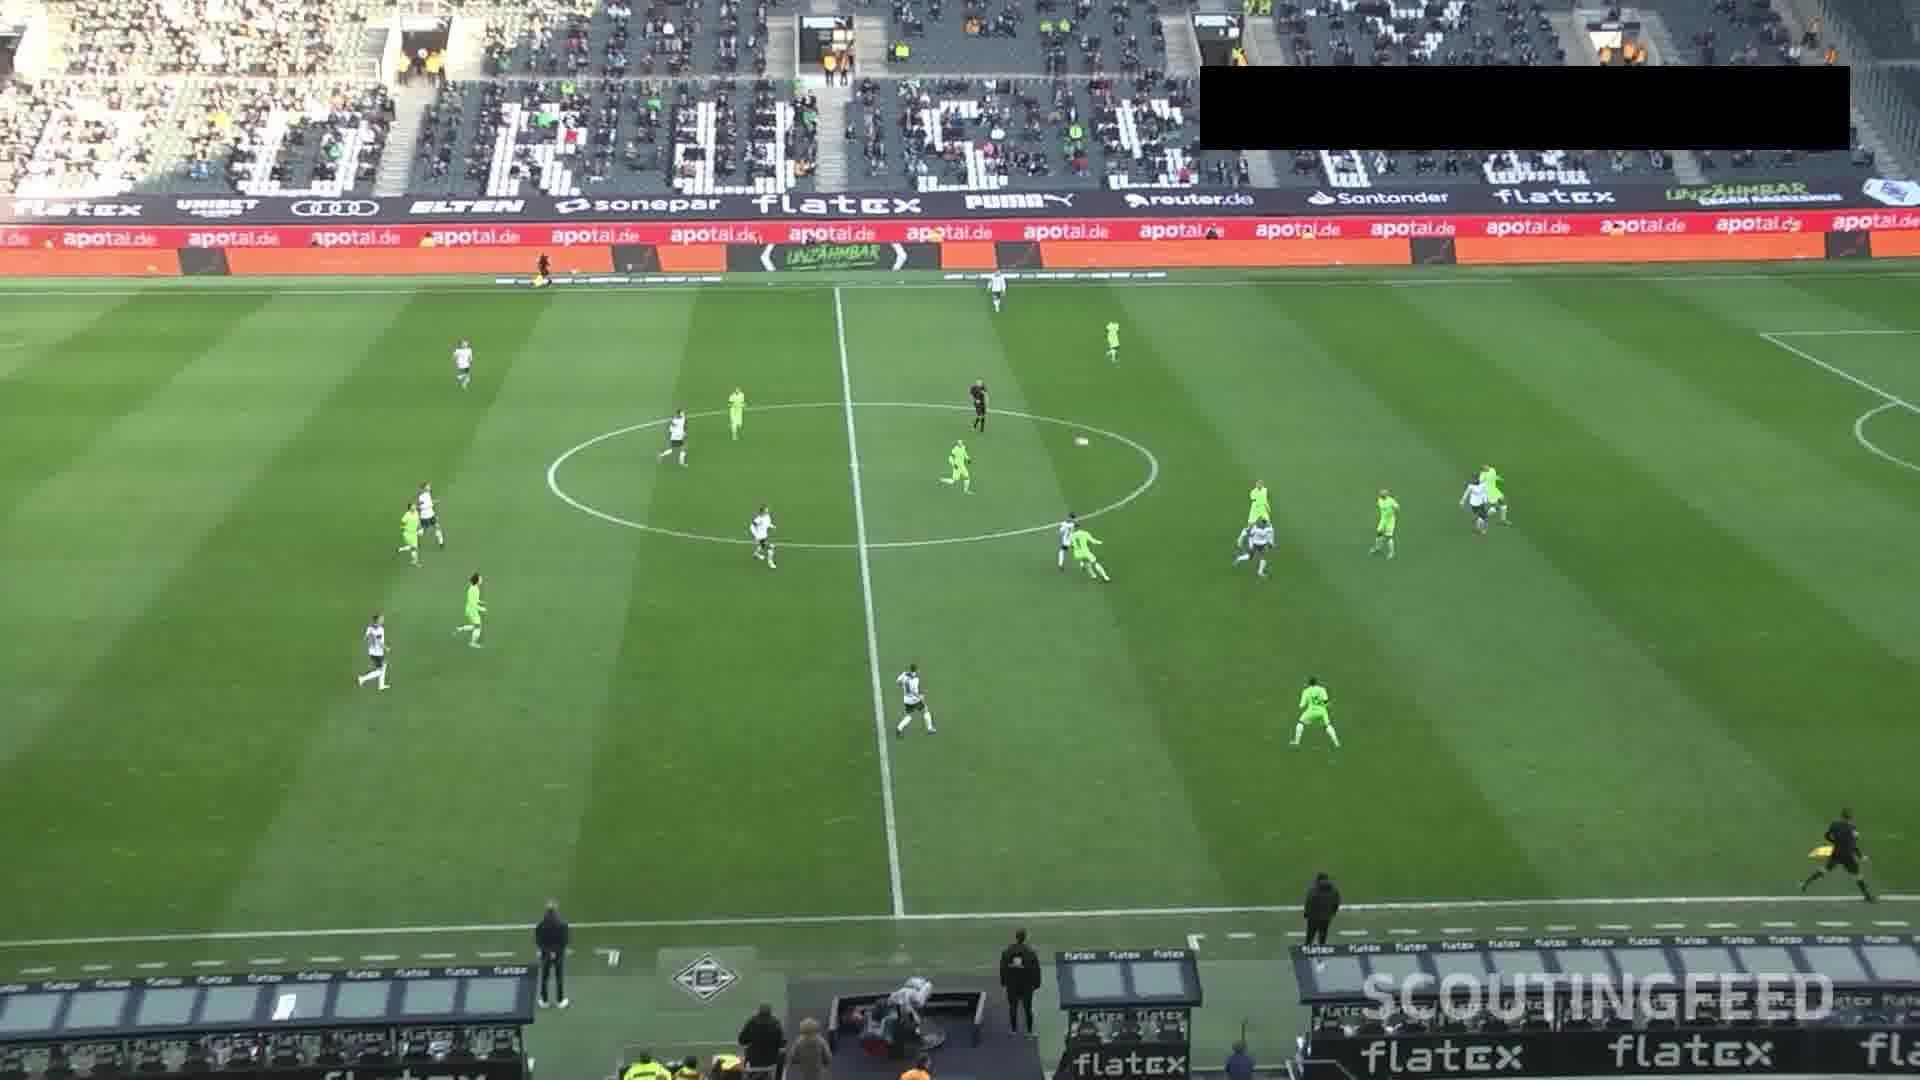football: (1072, 435, 1088, 447)
